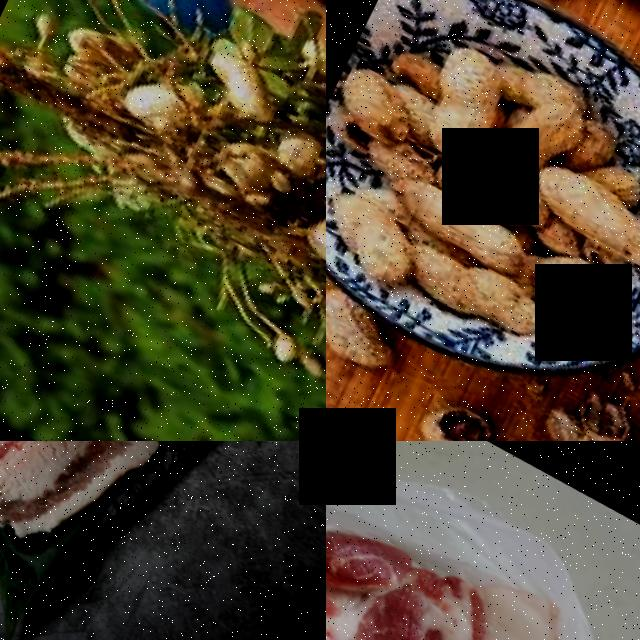peanuts: (406, 234, 553, 348), (386, 169, 537, 278), (413, 32, 520, 164), (522, 145, 640, 264), (430, 141, 555, 238), (477, 87, 571, 189), (326, 284, 407, 377)
pork belly: (0, 441, 316, 613), (326, 446, 599, 640)
